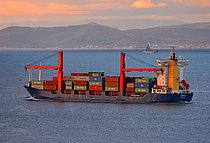Ship: (20, 49, 199, 107)
